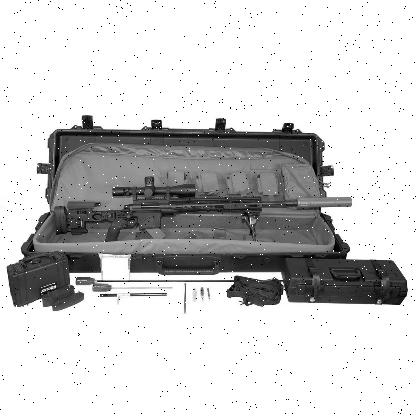gun: (26, 136, 364, 256)
